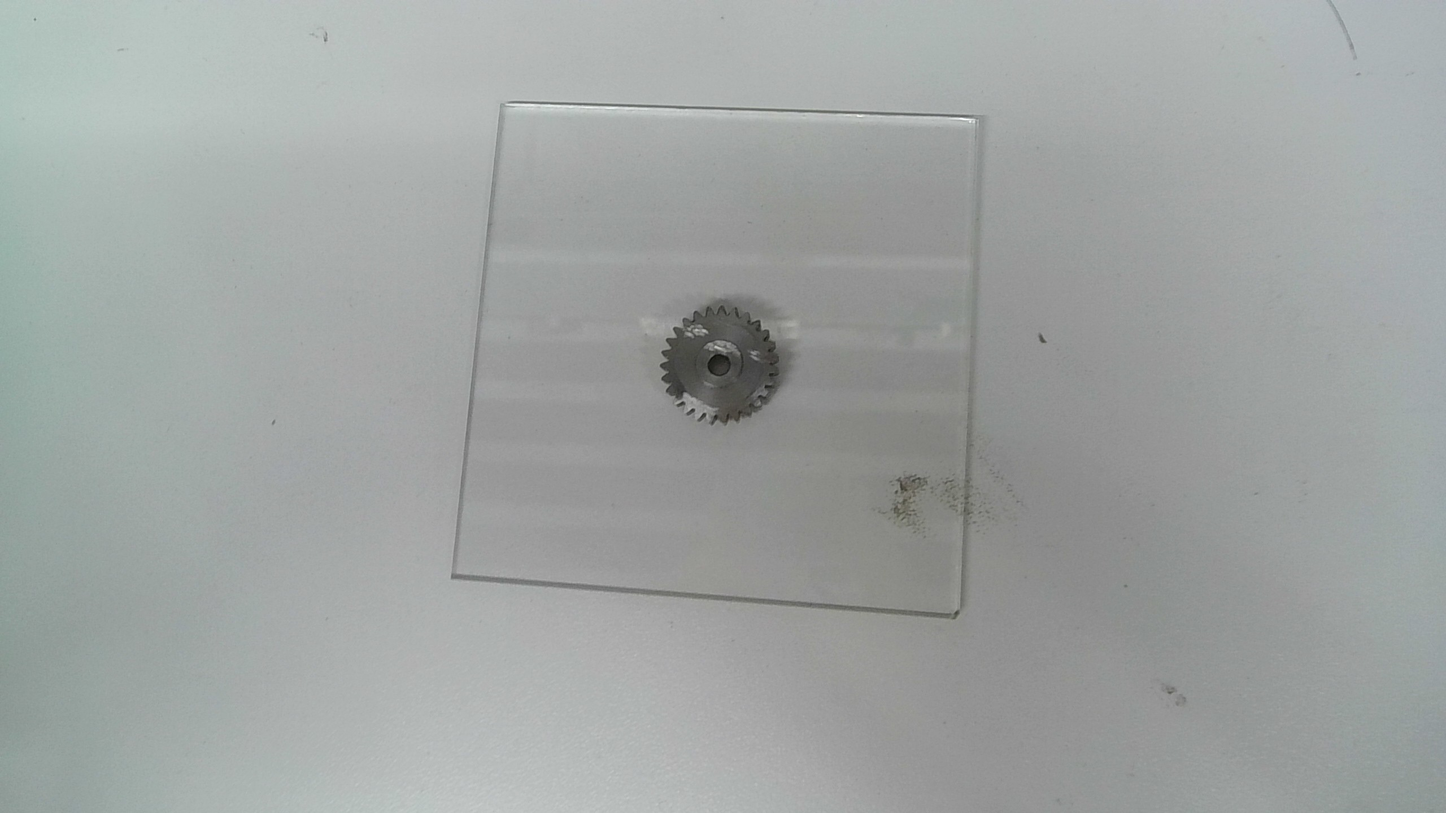gear: (657, 299, 783, 428)
